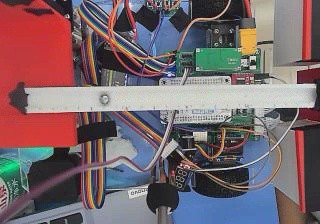ironball: (99, 93, 109, 104)
